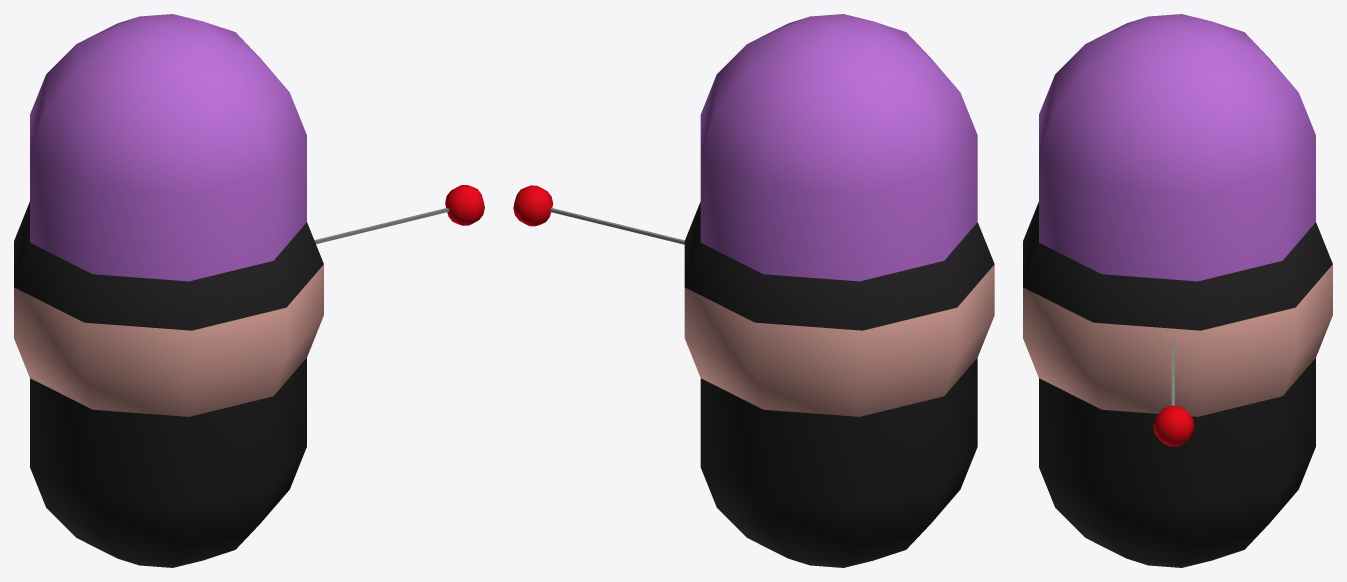
Rendered from Character_presentation1.glb.
3 views of the same model, side by side, from view 1: azimuth 30°, elevation 25°; view 2: azimuth 150°, elevation 25°; view 3: azimuth 270°, elevation 25° (orthographic).
Parts seen in each view (by area): view 1: body, head, hand; view 2: body, head, hand; view 3: body, head, hand.
Part boxes in pixels (x1,y1,x2,y2): body: [30, 14, 306, 567]; head: [14, 202, 323, 416]; hand: [314, 185, 484, 243]; body: [700, 14, 977, 567]; head: [684, 202, 994, 416]; hand: [513, 185, 684, 244]; body: [1039, 14, 1315, 567]; head: [1023, 202, 1332, 416]; hand: [1153, 342, 1194, 446].
Size of the model in its own units: 2.76 by 3.06 by 1.63.
